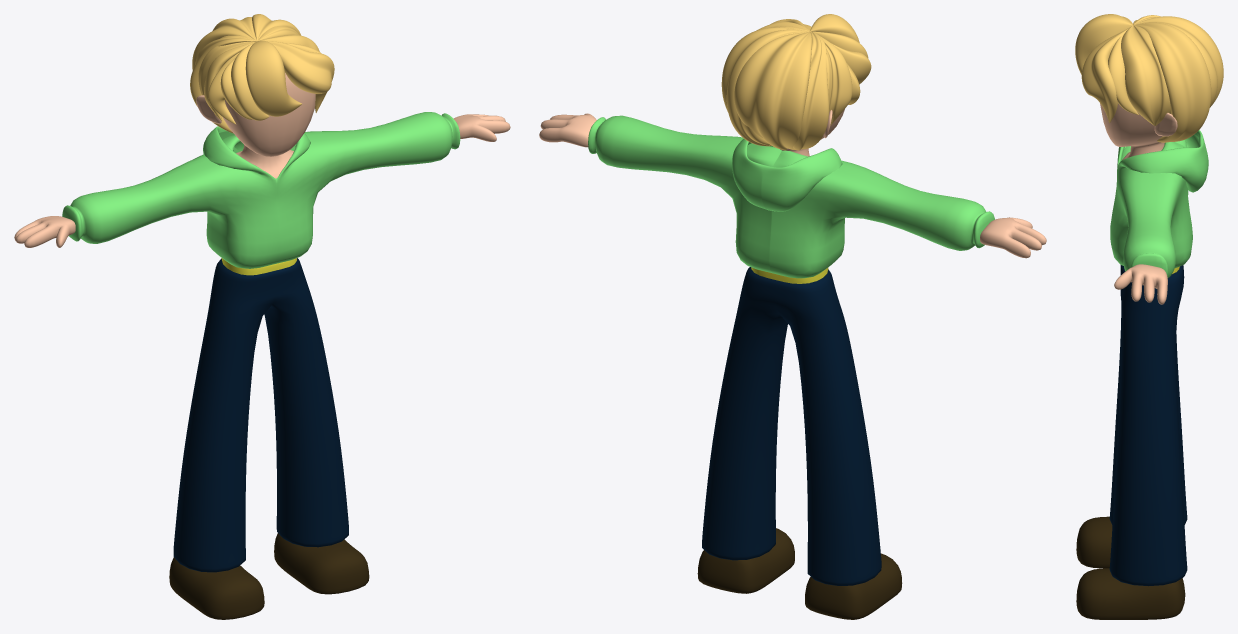
The model's file is player.fbx.
3 renders of one model, left to right at view 1: azimuth 30°, elevation 25°; view 2: azimuth 150°, elevation 25°; view 3: azimuth 270°, elevation 25°, orthographic. The views are drawn at different scales.
Visible parts, largest first — view 1: pants, polar.003, NurbsPath.004, shoes, head, hand; view 2: pants, polar.003, NurbsPath.004, shoes, hand; view 3: pants, NurbsPath.004, polar.003, shoes, head, hand, ear.
Part boxes in pixels (x1,y1,x2,y2): pants: (173,258,348,572); polar.003: (62,112,460,268); NurbsPath.004: (190,14,334,133); shoes: (169,533,369,619); head: (222,73,315,178); hand: (14,114,510,247); pants: (702,267,881,585); polar.003: (588,115,994,278); NurbsPath.004: (721,14,871,150); shoes: (697,528,902,619); hand: (539,113,1046,258); pants: (1109,265,1187,586); NurbsPath.004: (1075,14,1223,142); polar.003: (1110,130,1208,278); shoes: (1076,516,1185,619); head: (1100,103,1164,160); hand: (1114,264,1167,304); ear: (1154,113,1177,136).
Size of the model in its own units: 284 by 306 by 73.8.
